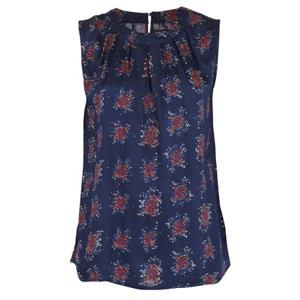C_tank top: (67, 2, 238, 293)
